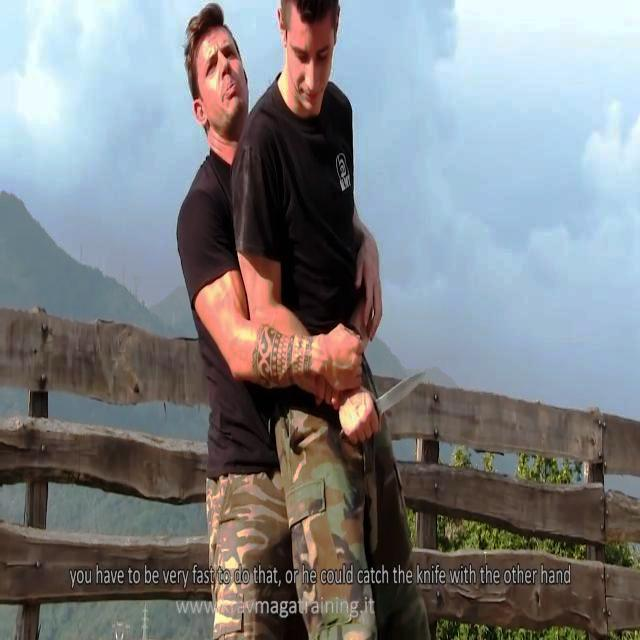Knife: (369, 364, 447, 414)
